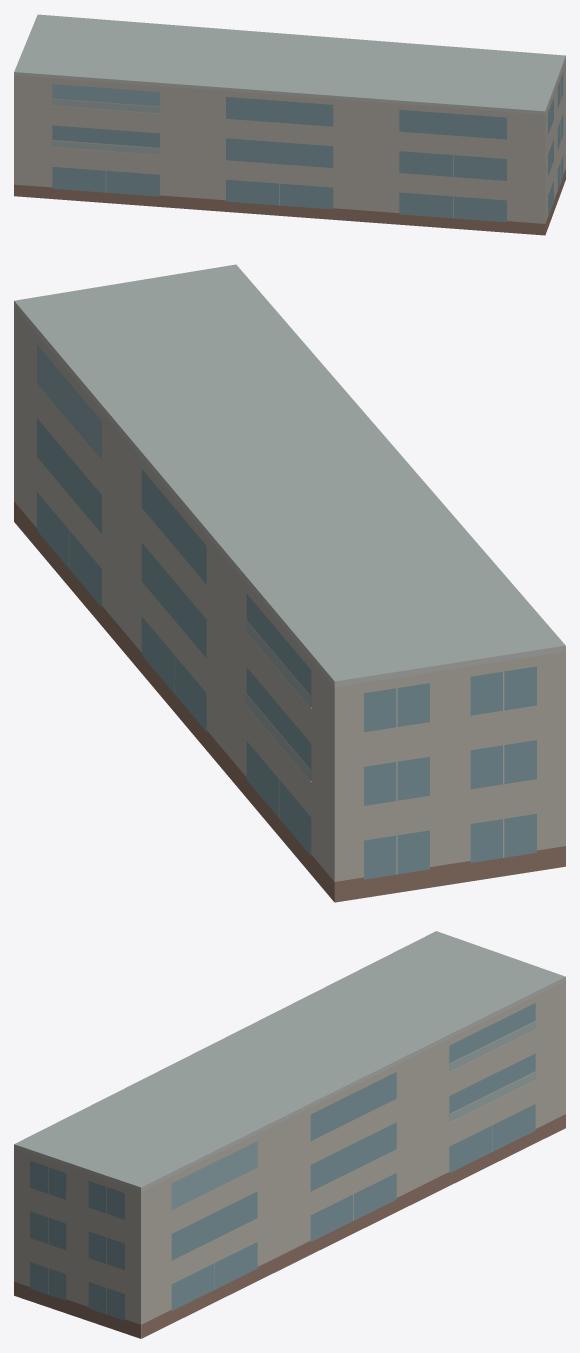
File: survey-upis-32656903.glb
3 views of the same model, one above another, from view 1: azimuth 30°, elevation 25°; view 2: azimuth 150°, elevation 25°; view 3: azimuth 270°, elevation 25° (orthographic). The views are drawn at different scales.
Parts seen in each view (by area): view 1: survey-upis-32656903.tmp; view 2: survey-upis-32656903.tmp; view 3: survey-upis-32656903.tmp.
Boxes of the visible parts, <box> form: survey-upis-32656903.tmp: <box>14,14,565,235</box>; survey-upis-32656903.tmp: <box>14,264,565,902</box>; survey-upis-32656903.tmp: <box>14,931,565,1338</box>.
Size of the model in its own units: 33.24 by 9.15 by 30.23.
